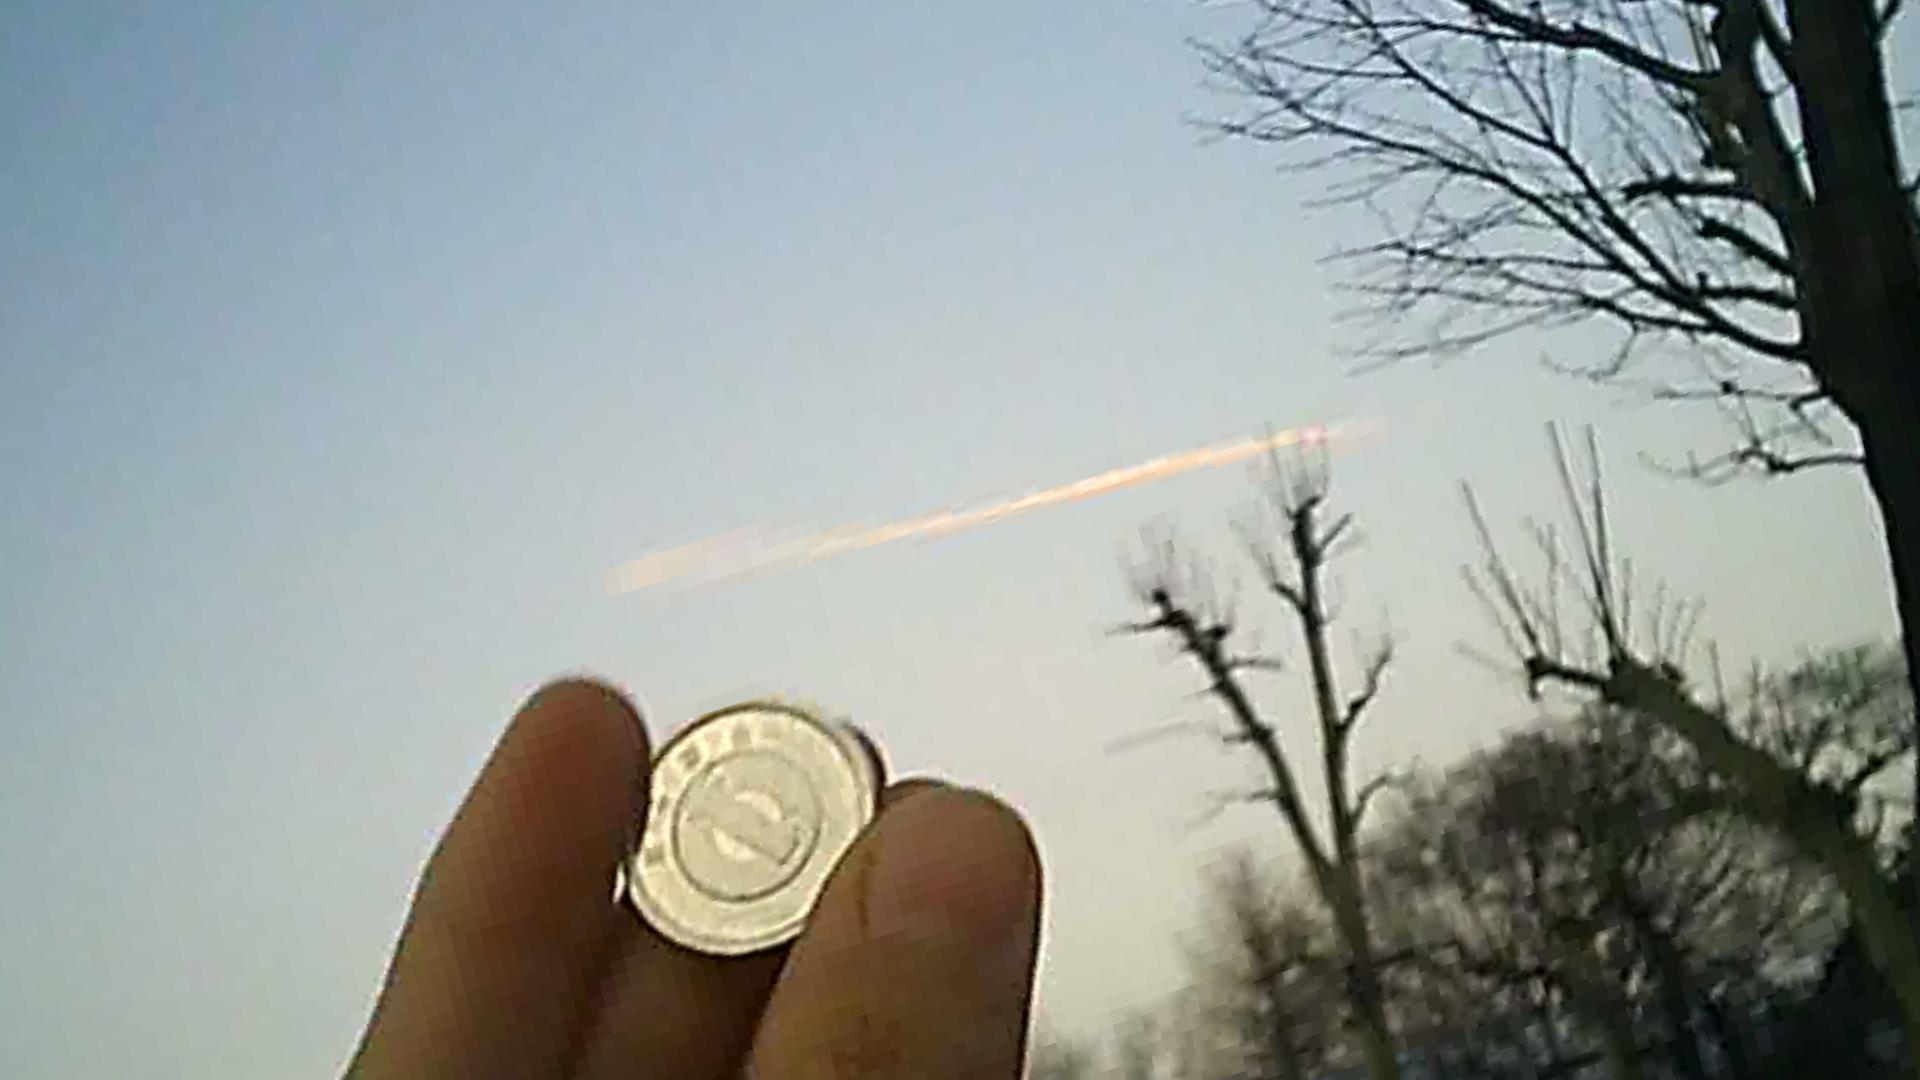1 Yen: (603, 680, 876, 967)
